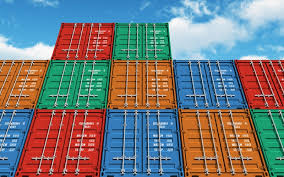container_door: (13, 109, 104, 177), (178, 109, 266, 176), (103, 109, 182, 177), (37, 58, 107, 108), (176, 58, 244, 107), (108, 59, 176, 107), (52, 22, 114, 60), (113, 22, 175, 60), (242, 59, 284, 107), (1, 58, 41, 108)
